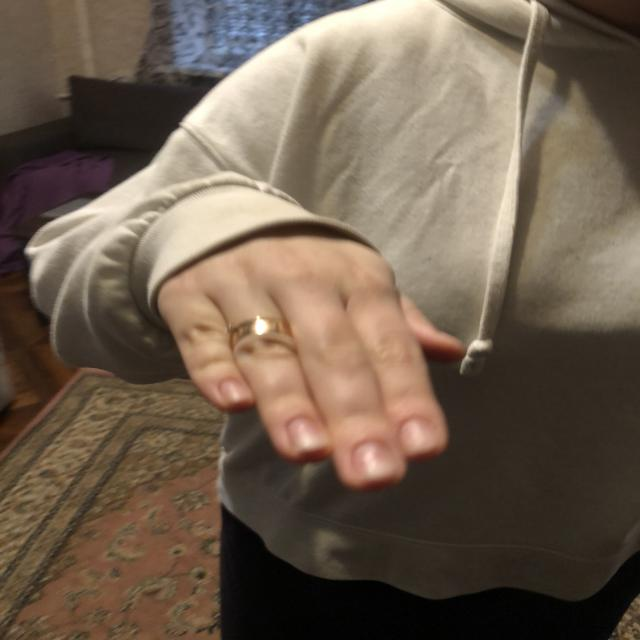paper: (172, 227, 464, 492)
